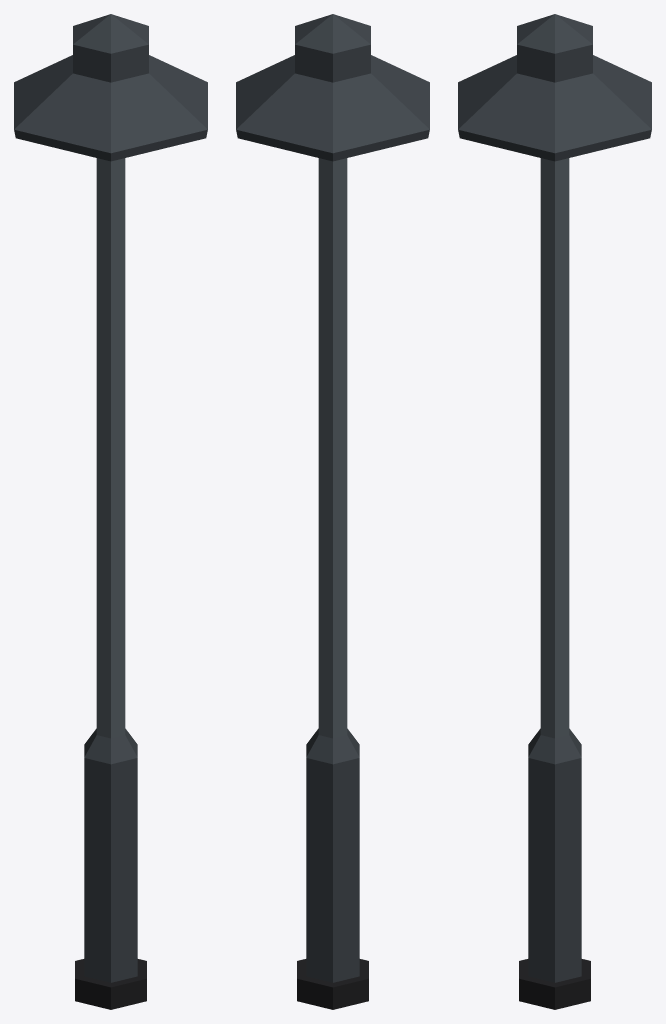
File: streetamp_01.fbx
3 views of the same model, side by side, from view 1: azimuth 30°, elevation 25°; view 2: azimuth 150°, elevation 25°; view 3: azimuth 270°, elevation 25° (orthographic).
Visible parts, largest first — view 1: Streetlamp_01; view 2: Streetlamp_01; view 3: Streetlamp_01.
Part boxes in pixels (box(x1,y1,x2,y2)): Streetlamp_01: box(14, 14, 207, 1009); Streetlamp_01: box(236, 14, 429, 1009); Streetlamp_01: box(458, 14, 651, 1009).
Bounding box in the file's own units: 0.1493 × 0.7194 × 0.1293.
Materials: 1 (1 with a texture image).
